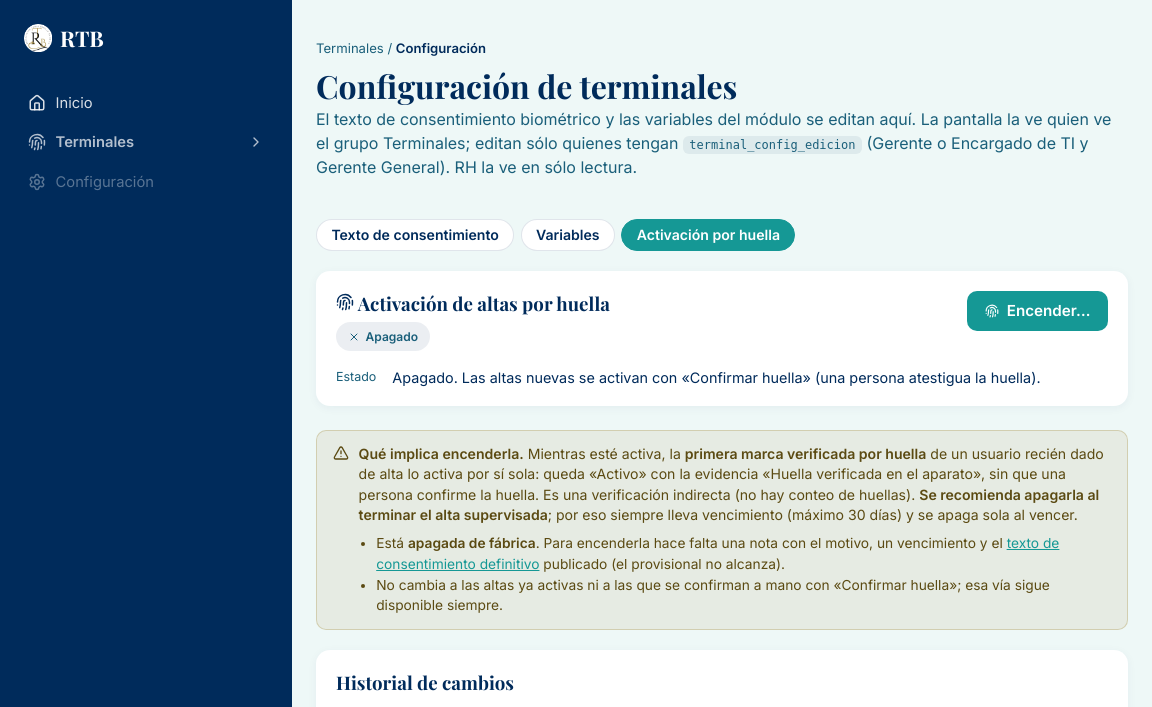
ActivacionHuellaPage › acciones › Encender: abre el modal, aplica el cambio, muestra el aviso y vuelve a pedir el historial
The image size is (1152, 707).
Click the button "Encender…".
click(1038, 311)  # box [967,291,1108,331]
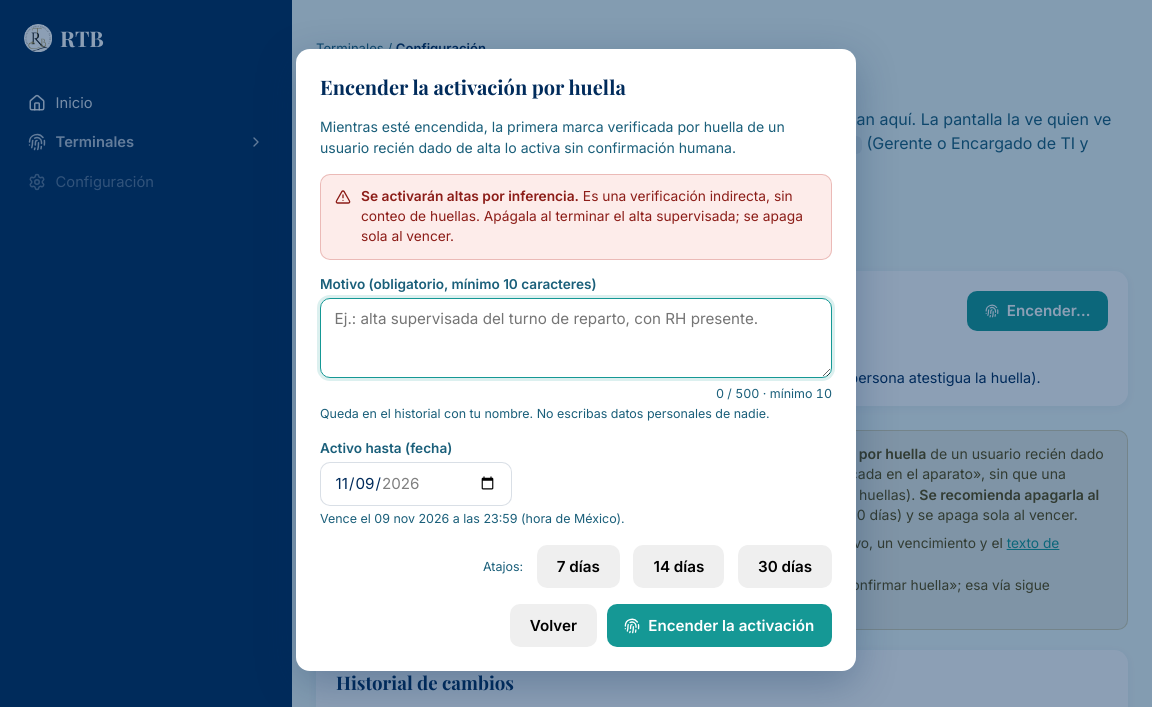
Type "Alta supervisada del turno de reparto." into the text box labelled "Motivo (obligatorio, mínimo 10 caracteres)".
click(576, 338); type("Alta supervisada del turno de reparto.")  # box [320,298,832,378]
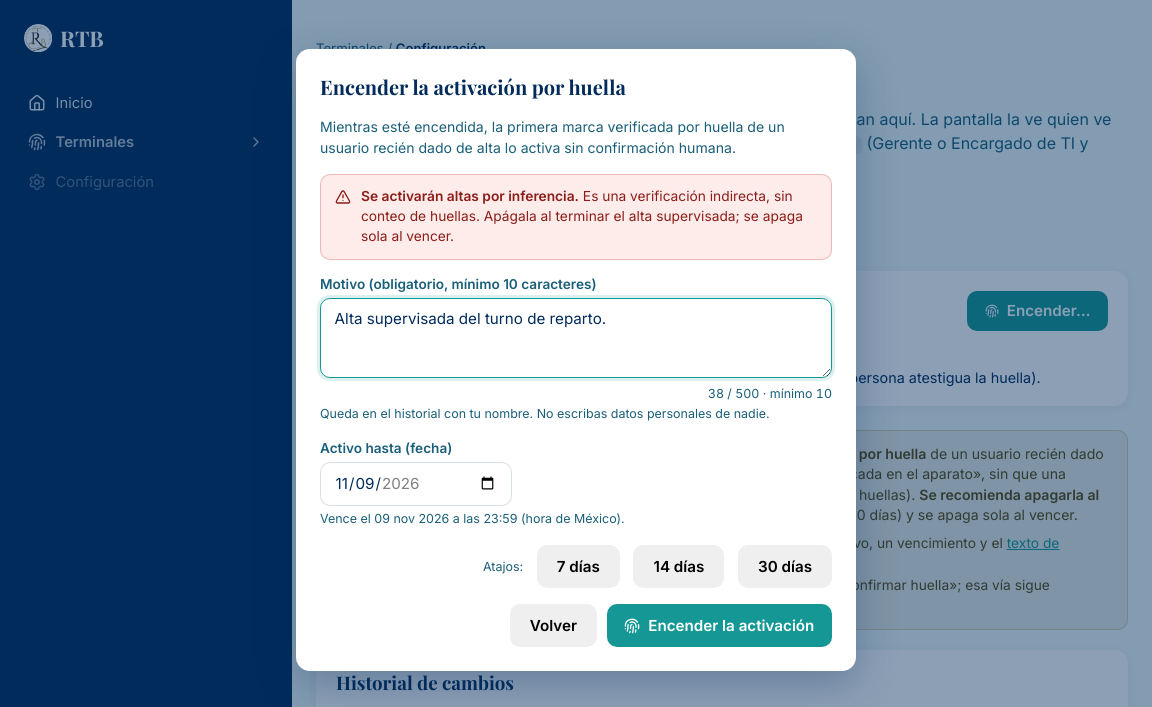
Click the button "Encender la activación".
click(719, 626)  # box [607,604,832,647]
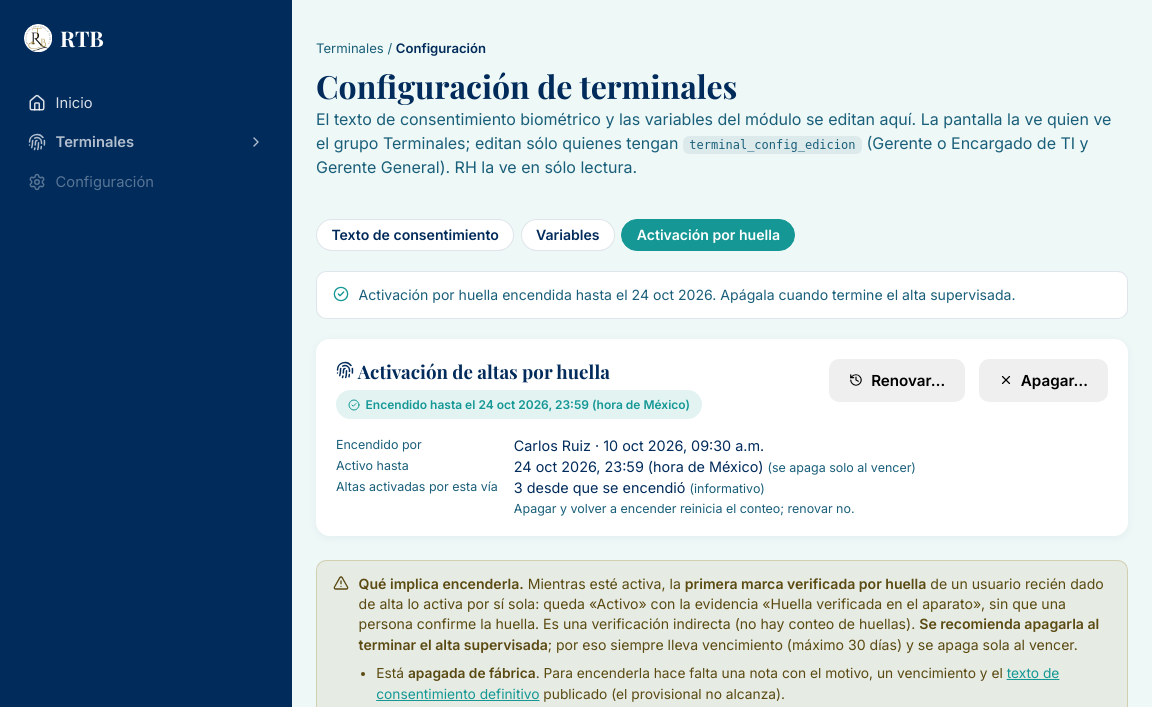
expect the text "Activación por huella encendida hasta el 24 oct 2026" is shown: met, box [359,286,1016,303]
expect the dialog is gone: met
expect the text "Encendido hasta el 24 oct 2026, 23:59 (hora de México)" is shown: met, box [336,390,702,419]
